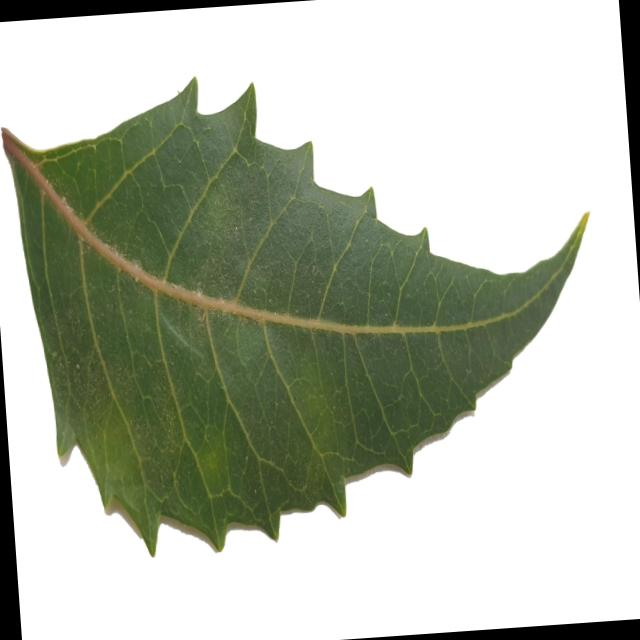Medicinal-Arive Dantu: (0, 24, 610, 570)
